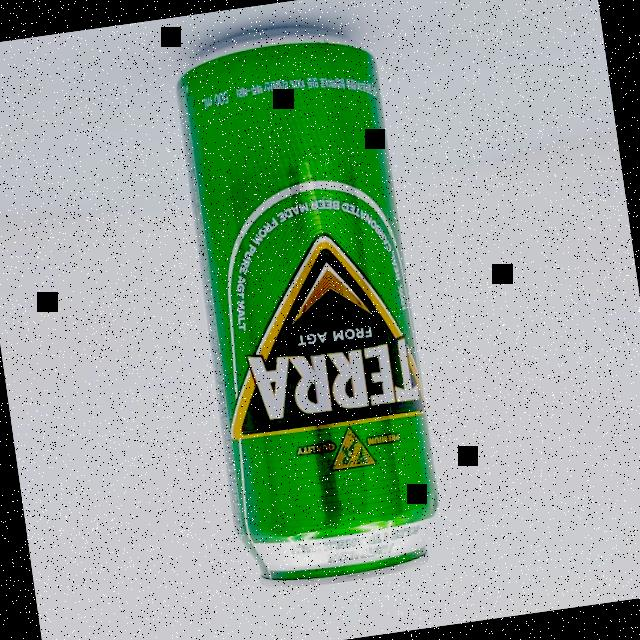can: (166, 14, 450, 597)
